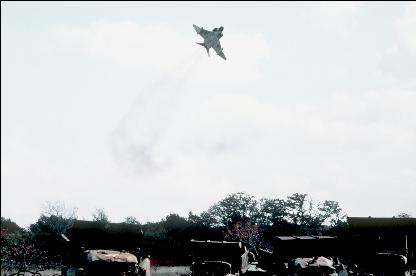F35: (192, 23, 226, 59)
